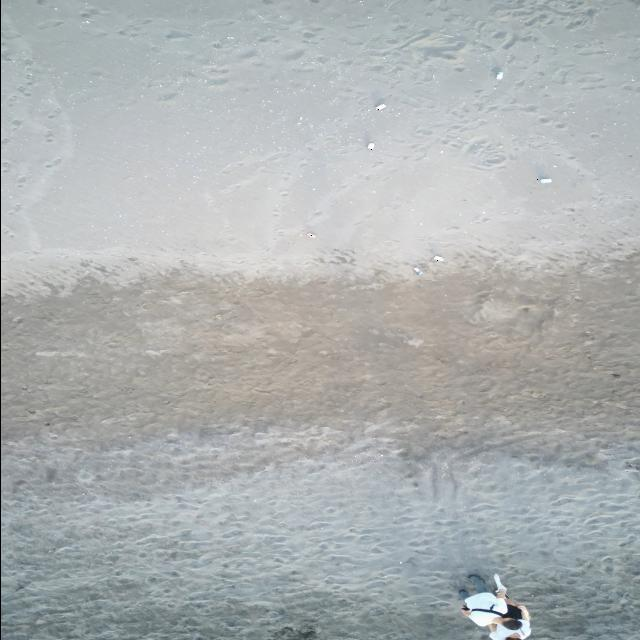Garbage: (493, 573, 506, 591), (412, 266, 423, 275), (537, 176, 551, 183), (495, 71, 503, 80), (376, 103, 386, 110), (432, 255, 444, 260), (367, 141, 373, 150), (307, 232, 315, 238)
